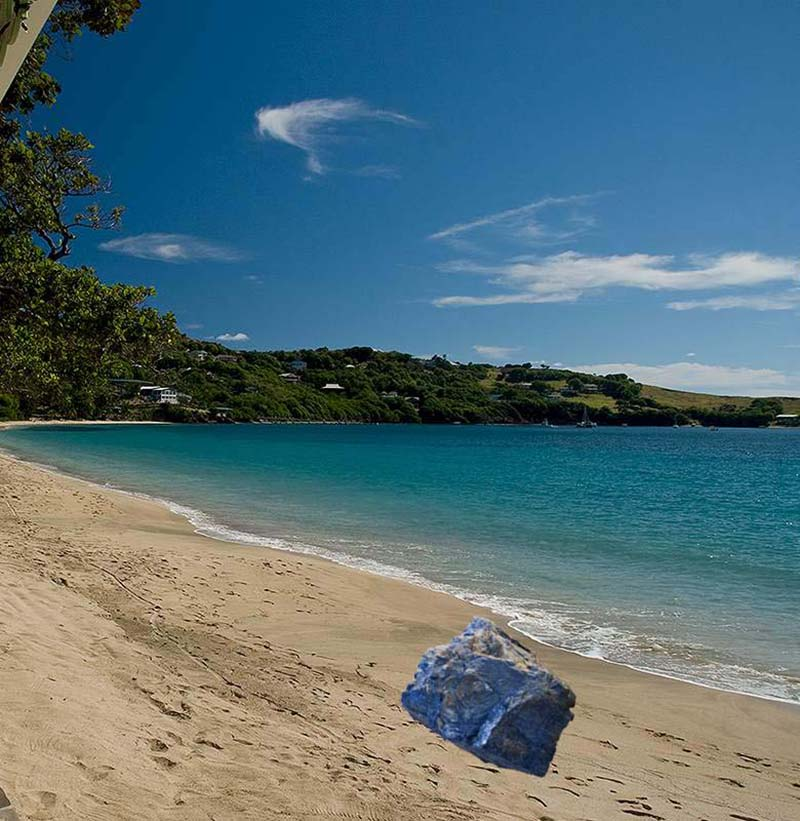Rocks: (394, 603, 580, 789)
